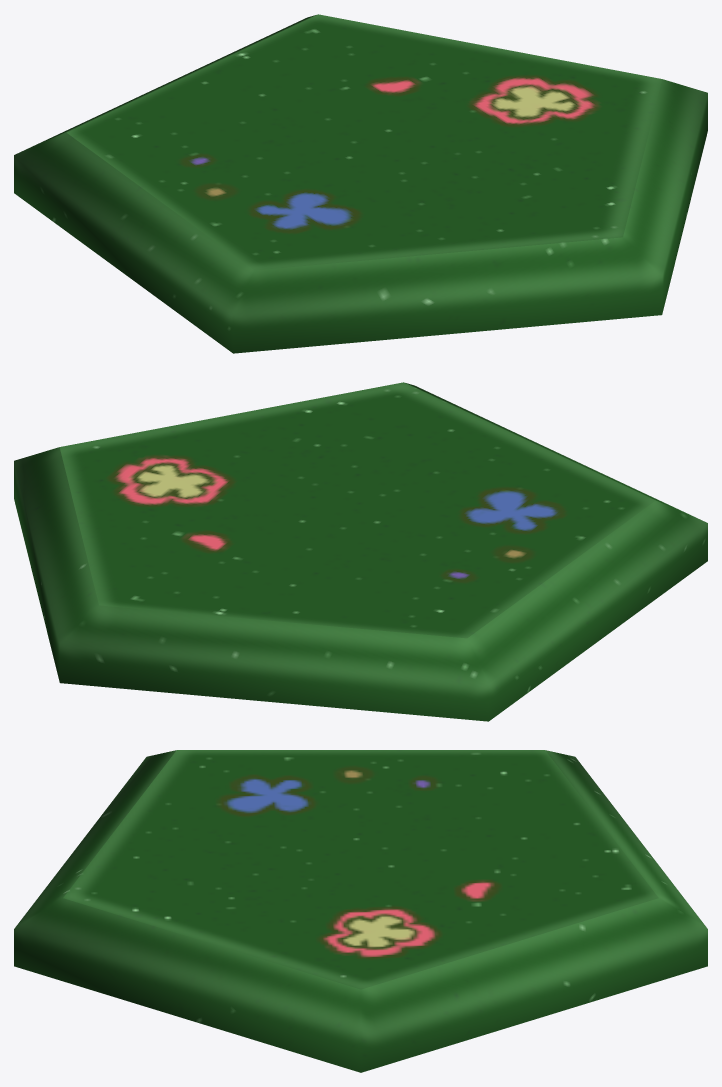
3 renders of one model, top to bottom at view 1: azimuth 30°, elevation 25°; view 2: azimuth 150°, elevation 25°; view 3: azimuth 270°, elevation 25°, orthographic. The views are drawn at different scales.
Visible parts, largest first — view 1: Cylinder004; view 2: Cylinder004; view 3: Cylinder004.
Part boxes in pixels (left/top/right/bottom): Cylinder004: left=14, top=14, right=707, bottom=353; Cylinder004: left=14, top=382, right=707, bottom=721; Cylinder004: left=14, top=750, right=707, bottom=1072.
Bounding box in the file's own units: 116 × 11.88 × 122.
1 material, 1 textured.
